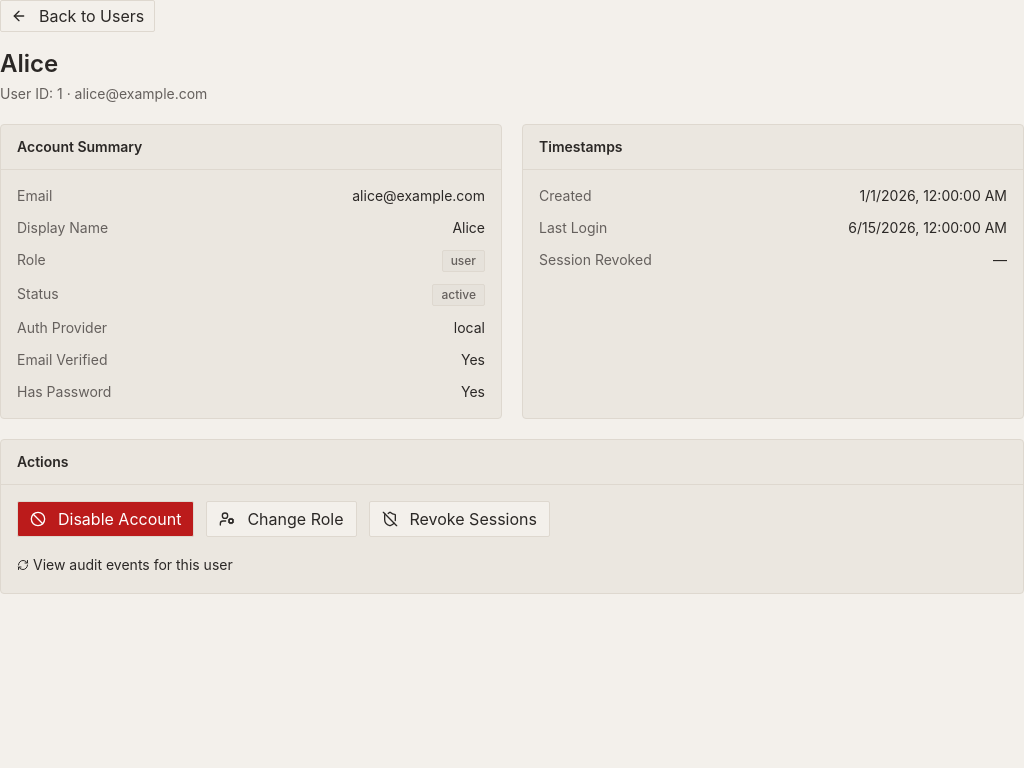
Admin User Detail Page › shows error from failed mutation
Step 1. Click the button "Disable Account" → (106, 519), box x1=17 y1=501 x2=194 y2=537
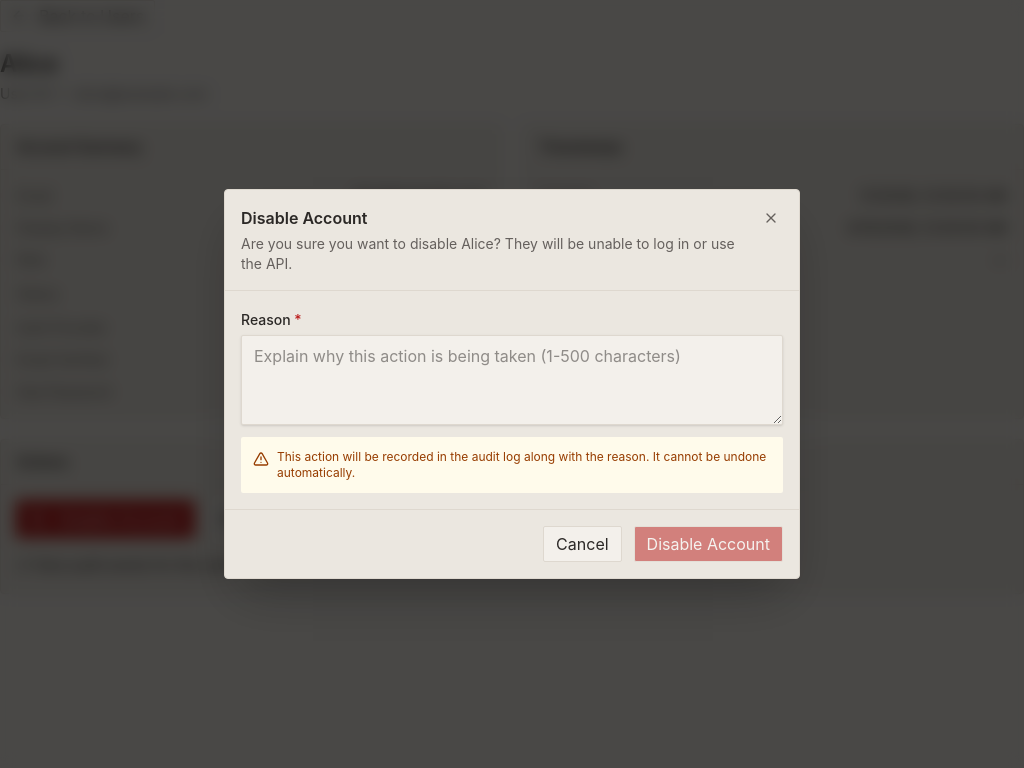
Step 2. Type "Testing" into the text box labelled "Reason *" → (512, 380), box x1=241 y1=335 x2=783 y2=425
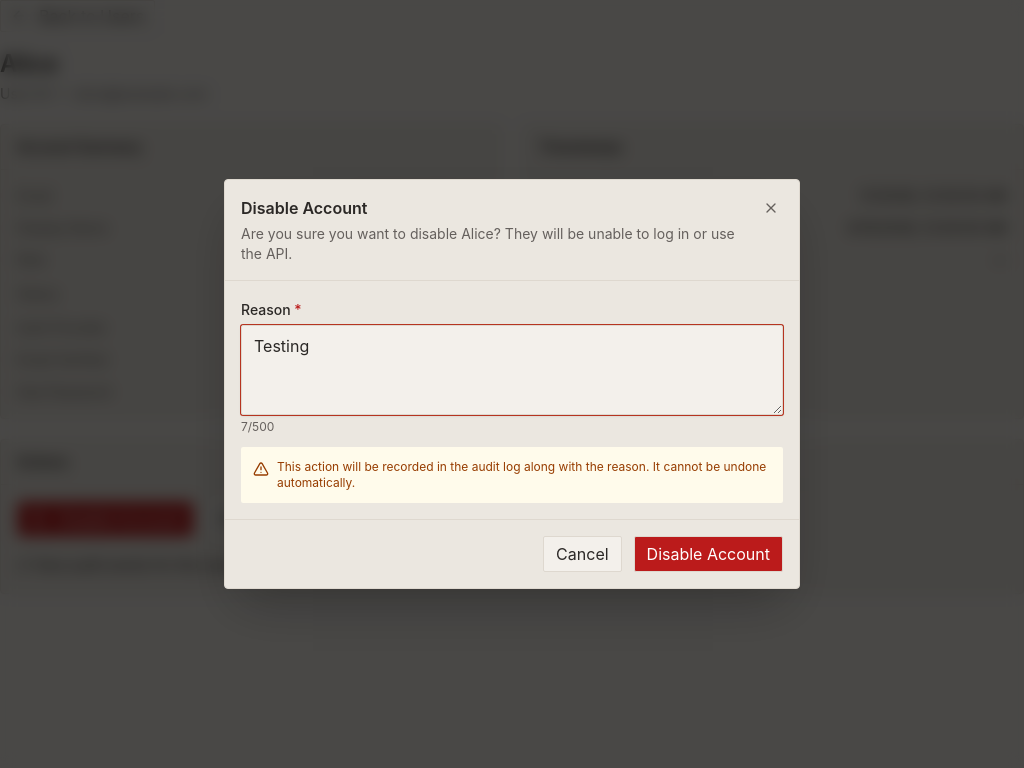
Step 3. Click the button "Disable Account" → (708, 554), box x1=634 y1=536 x2=783 y2=572
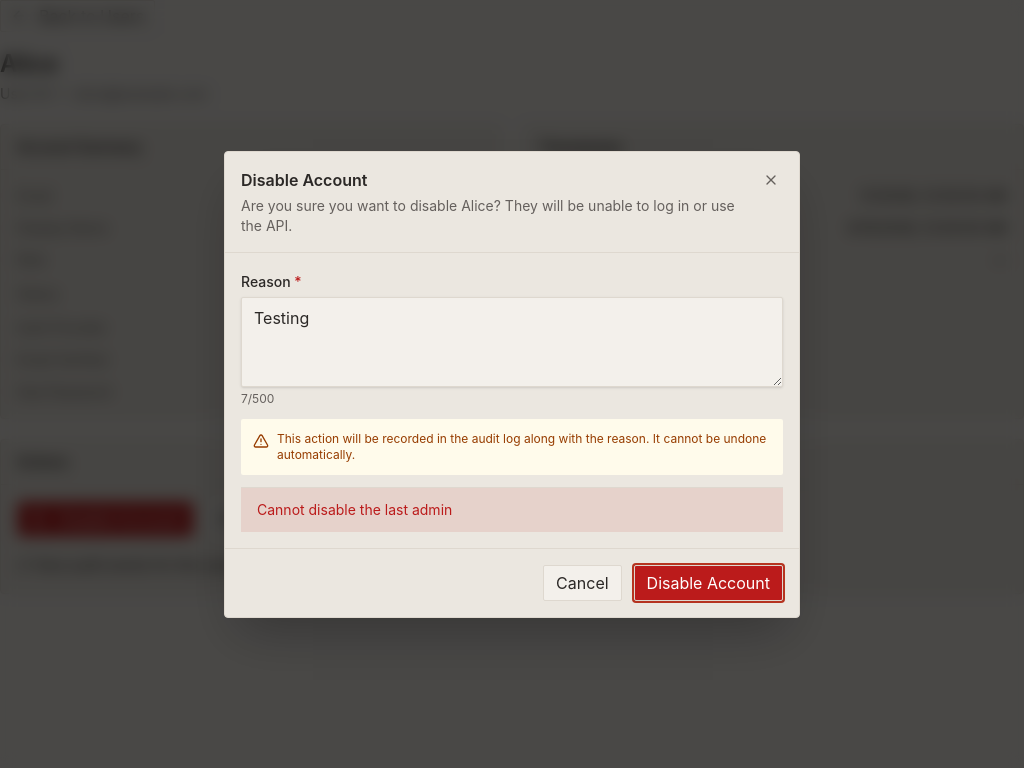
Expected: the text "Cannot disable the last admin" is shown, x1=241 y1=486 x2=783 y2=532
